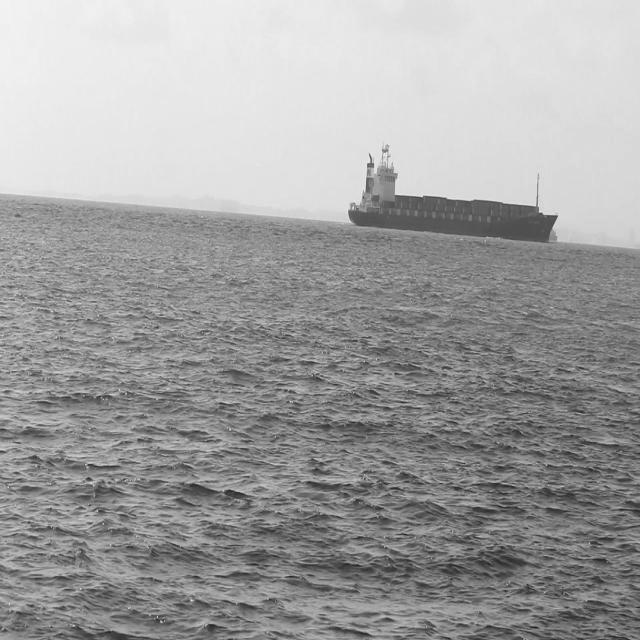ship: (348, 150, 560, 241), (550, 224, 562, 244)
